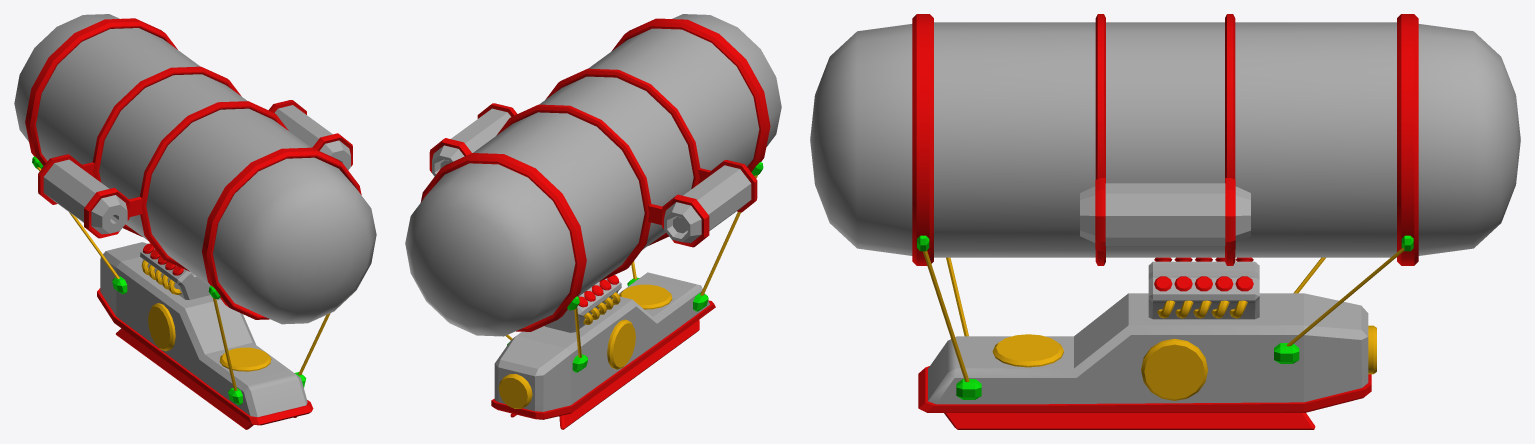
File: Enemy_Blimp_Base.fbx
3 renders of one model, left to right at view 1: azimuth 30°, elevation 25°; view 2: azimuth 150°, elevation 25°; view 3: azimuth 270°, elevation 25°, orthographic. The views are drawn at different scales.
Parts seen in each view (by area): view 1: Enemy_Blimp_Base; view 2: Enemy_Blimp_Base; view 3: Enemy_Blimp_Base.
Part boxes in pixels (x1,y1,x2,y2): Enemy_Blimp_Base: [14, 14, 376, 429]; Enemy_Blimp_Base: [405, 14, 781, 429]; Enemy_Blimp_Base: [810, 14, 1520, 429].
Bounding box in the file's own units: 19.48 × 19.74 × 32.82.
